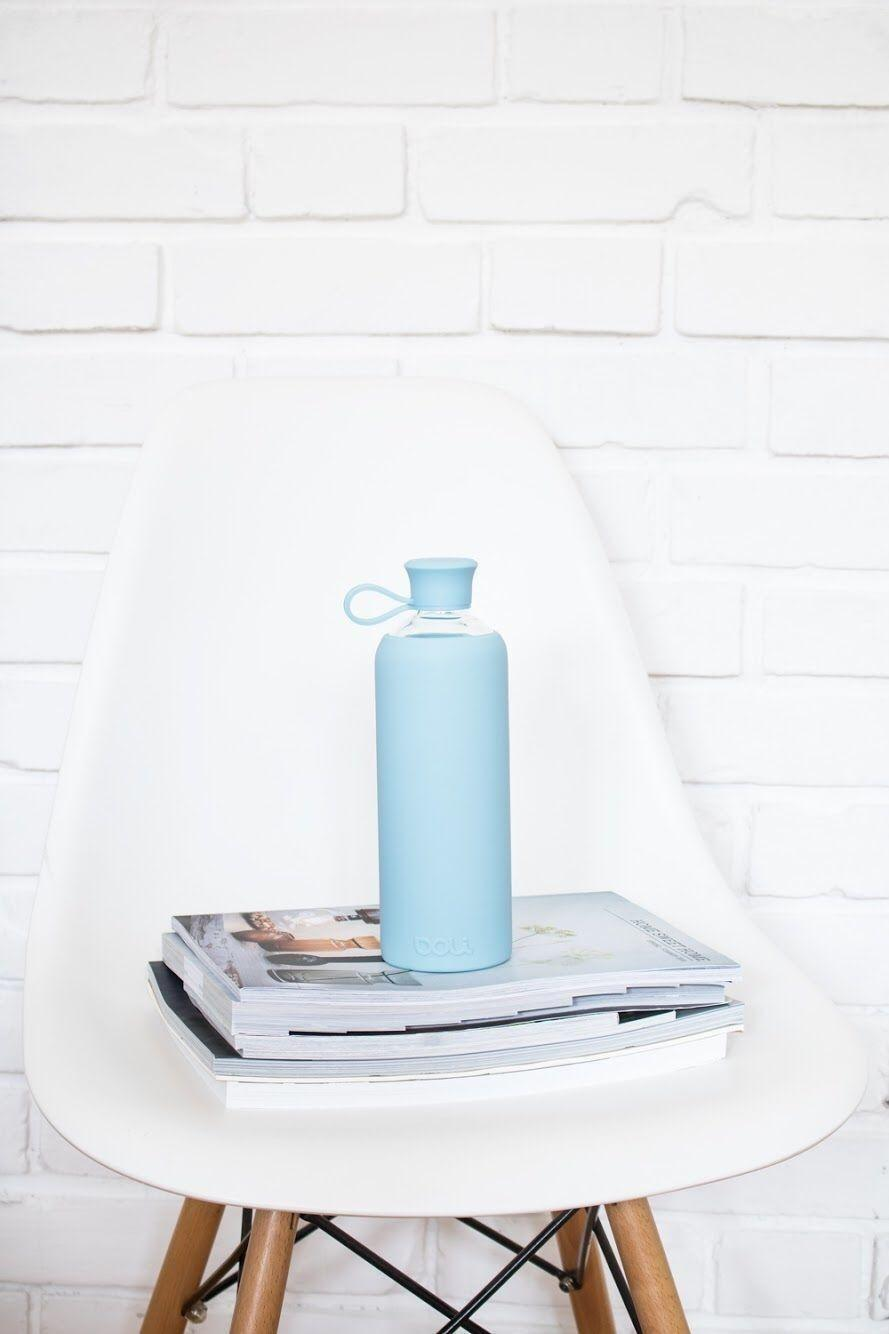gym bottle: (372, 550, 518, 974)
